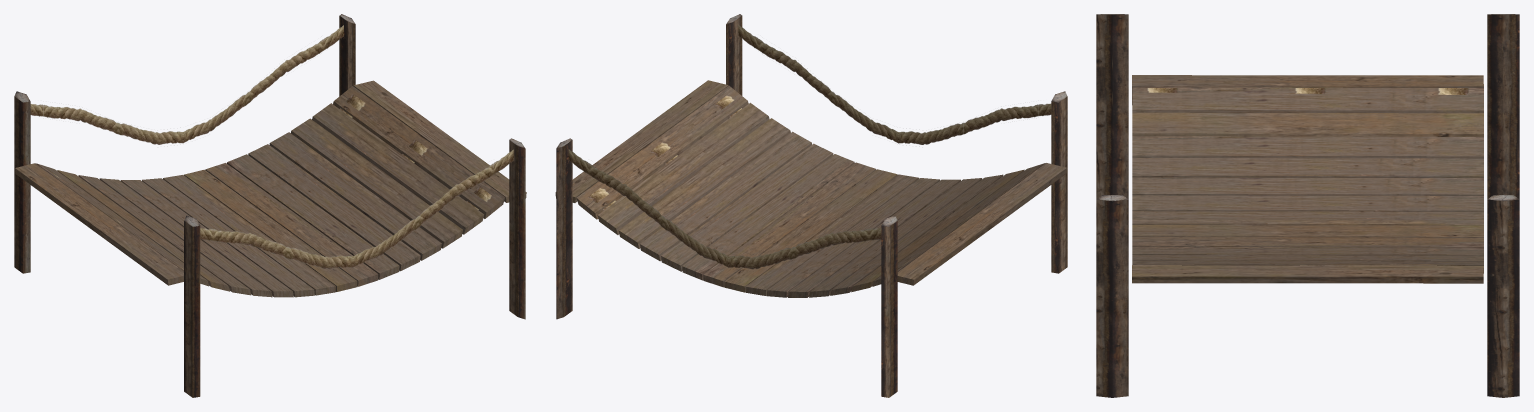
The model's file is Bridge_Curved.glb.
3 views of the same model, side by side, from view 1: azimuth 30°, elevation 25°; view 2: azimuth 150°, elevation 25°; view 3: azimuth 270°, elevation 25° (orthographic). The views are drawn at different scales.
Parts seen in each view (by area): view 1: Plank_14, Plank_15, Plank_13, Plank_12, Plank_00, Plank_11, Plank_10, Plank_09, Plank_16, Post_02, Plank_08, Post_00 (+13 smaller); view 2: Plank_14, Plank_15, Plank_13, Plank_12, Plank_00, Plank_11, Plank_10, Plank_09, Plank_16, Post_03, Plank_08, Post_01 (+13 smaller); view 3: Plank_01, Plank_02, Plank_03, Plank_04, Plank_16, Post_00, Post_01, Plank_05, Post_02, Post_03, Plank_06, Plank_07 (+6 smaller).
Part boxes in pixels (left/top/right/bottom): Plank_14: left=312, top=103, right=483, bottom=234; Plank_15: left=333, top=86, right=505, bottom=218; Plank_13: left=291, top=118, right=462, bottom=248; Plank_12: left=269, top=132, right=441, bottom=260; Plank_00: left=15, top=163, right=183, bottom=285; Plank_11: left=248, top=144, right=420, bottom=271; Plank_10: left=227, top=154, right=399, bottom=279; Plank_09: left=205, top=163, right=378, bottom=286; Plank_16: left=353, top=80, right=526, bottom=202; Post_02: left=184, top=215, right=200, bottom=397; Plank_08: left=184, top=169, right=357, bottom=291; Post_00: left=509, top=138, right=525, bottom=319; Plank_14: left=597, top=102, right=769, bottom=234; Plank_15: left=576, top=85, right=748, bottom=219; Plank_13: left=619, top=118, right=790, bottom=248; Plank_12: left=640, top=131, right=811, bottom=261; Plank_00: left=897, top=163, right=1066, bottom=285; Plank_11: left=661, top=143, right=833, bottom=271; Plank_10: left=682, top=154, right=854, bottom=280; Plank_09: left=703, top=162, right=876, bottom=287; Plank_16: left=555, top=80, right=728, bottom=202; Post_03: left=881, top=215, right=897, bottom=397; Plank_08: left=724, top=169, right=897, bottom=292; Post_01: left=556, top=138, right=572, bottom=319; Plank_01: left=1132, top=87, right=1483, bottom=113; Plank_02: left=1132, top=112, right=1483, bottom=136; Plank_03: left=1132, top=136, right=1483, bottom=158; Plank_04: left=1132, top=158, right=1483, bottom=178; Plank_16: left=1132, top=265, right=1483, bottom=283; Post_00: left=1096, top=195, right=1128, bottom=397; Post_01: left=1487, top=195, right=1519, bottom=397; Plank_05: left=1132, top=177, right=1483, bottom=195; Post_02: left=1096, top=14, right=1128, bottom=199; Post_03: left=1487, top=14, right=1519, bottom=199; Plank_06: left=1132, top=195, right=1483, bottom=211; Plank_07: left=1132, top=211, right=1483, bottom=225.
Bounding box in the file's own units: 3.29 × 1.53 × 2.92.
Materials: 1 (1 with a texture image).
